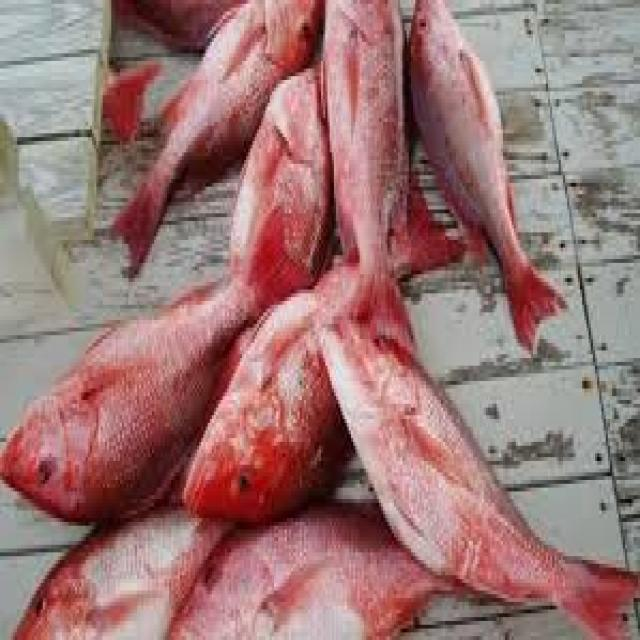northern-red-snapper: (314, 301, 640, 640), (78, 0, 324, 251), (406, 0, 582, 343), (2, 289, 244, 527), (184, 267, 374, 526), (165, 473, 440, 640), (320, 0, 430, 355), (35, 491, 212, 640), (244, 75, 319, 317)
